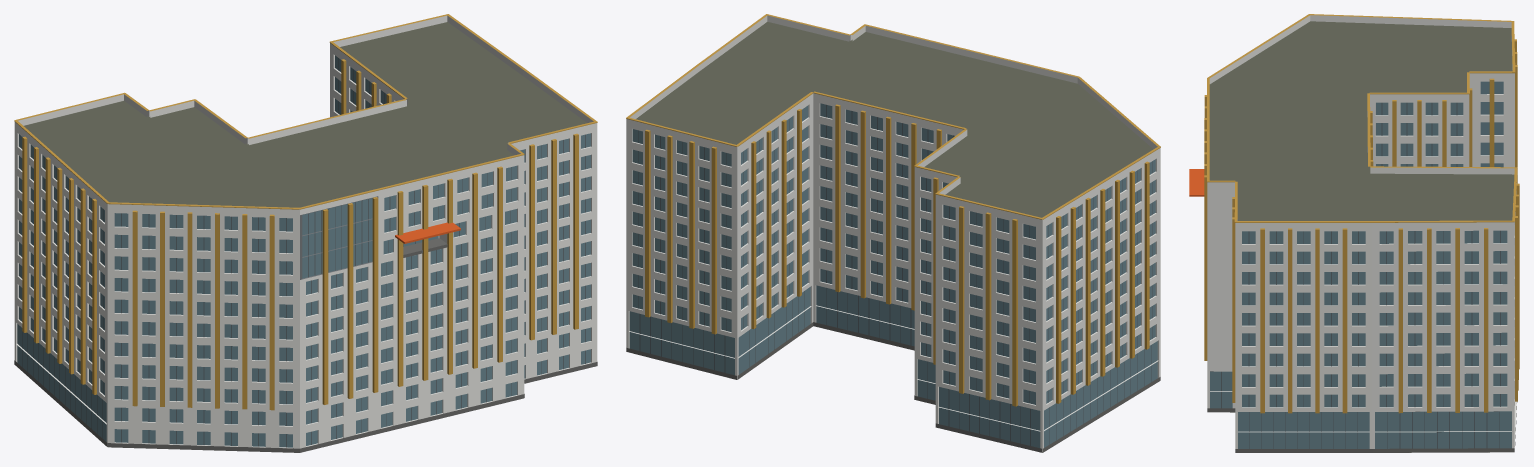
3 renders of one model, left to right at view 1: azimuth 30°, elevation 25°; view 2: azimuth 150°, elevation 25°; view 3: azimuth 270°, elevation 25°, orthographic. The views are drawn at different scales.
Parts seen in each view (by area): view 1: newEng__wall, newEng__glass, newEng__roof, newEng__trim, newEng__parapet, newEng__frame, newEng__base, newEng__canopy; view 2: newEng__wall, newEng__glass, newEng__roof, newEng__trim, newEng__parapet, newEng__frame, newEng__base; view 3: newEng__wall, newEng__roof, newEng__glass, newEng__trim, newEng__parapet, newEng__frame, newEng__base, newEng__canopy.
Boxes of the visible parts, left/top/right/bottom form: newEng__wall: left=14, top=48, right=597, bottom=448; newEng__glass: left=17, top=55, right=590, bottom=447; newEng__roof: left=24, top=22, right=586, bottom=207; newEng__trim: left=14, top=14, right=597, bottom=410; newEng__parapet: left=14, top=15, right=597, bottom=215; newEng__frame: left=22, top=58, right=585, bottom=447; newEng__base: left=14, top=238, right=597, bottom=452; newEng__canopy: left=395, top=222, right=460, bottom=243; newEng__wall: left=626, top=98, right=1160, bottom=452; newEng__glass: left=629, top=103, right=1157, bottom=447; newEng__roof: left=636, top=21, right=1153, bottom=452; newEng__trim: left=626, top=14, right=1160, bottom=406; newEng__parapet: left=626, top=15, right=1160, bottom=225; newEng__frame: left=638, top=105, right=1152, bottom=445; newEng__base: left=626, top=322, right=1160, bottom=452; newEng__wall: left=1207, top=78, right=1516, bottom=448; newEng__roof: left=1209, top=21, right=1514, bottom=452; newEng__glass: left=1210, top=81, right=1511, bottom=448; newEng__trim: left=1204, top=14, right=1519, bottom=413; newEng__parapet: left=1207, top=15, right=1514, bottom=228; newEng__frame: left=1210, top=103, right=1500, bottom=448; newEng__base: left=1207, top=402, right=1517, bottom=452; newEng__canopy: left=1189, top=169, right=1204, bottom=196.
Bounding box in the file's own units: 66.03 × 33.92 × 43.96.
